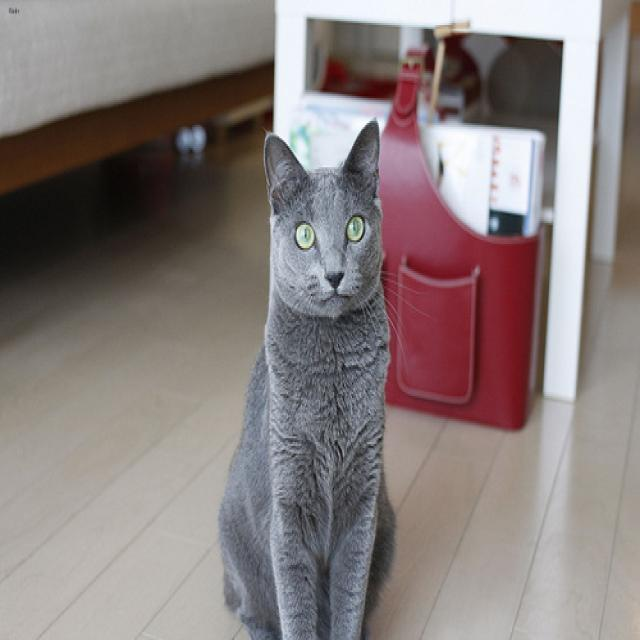Russian_Blue: (261, 117, 378, 315)
